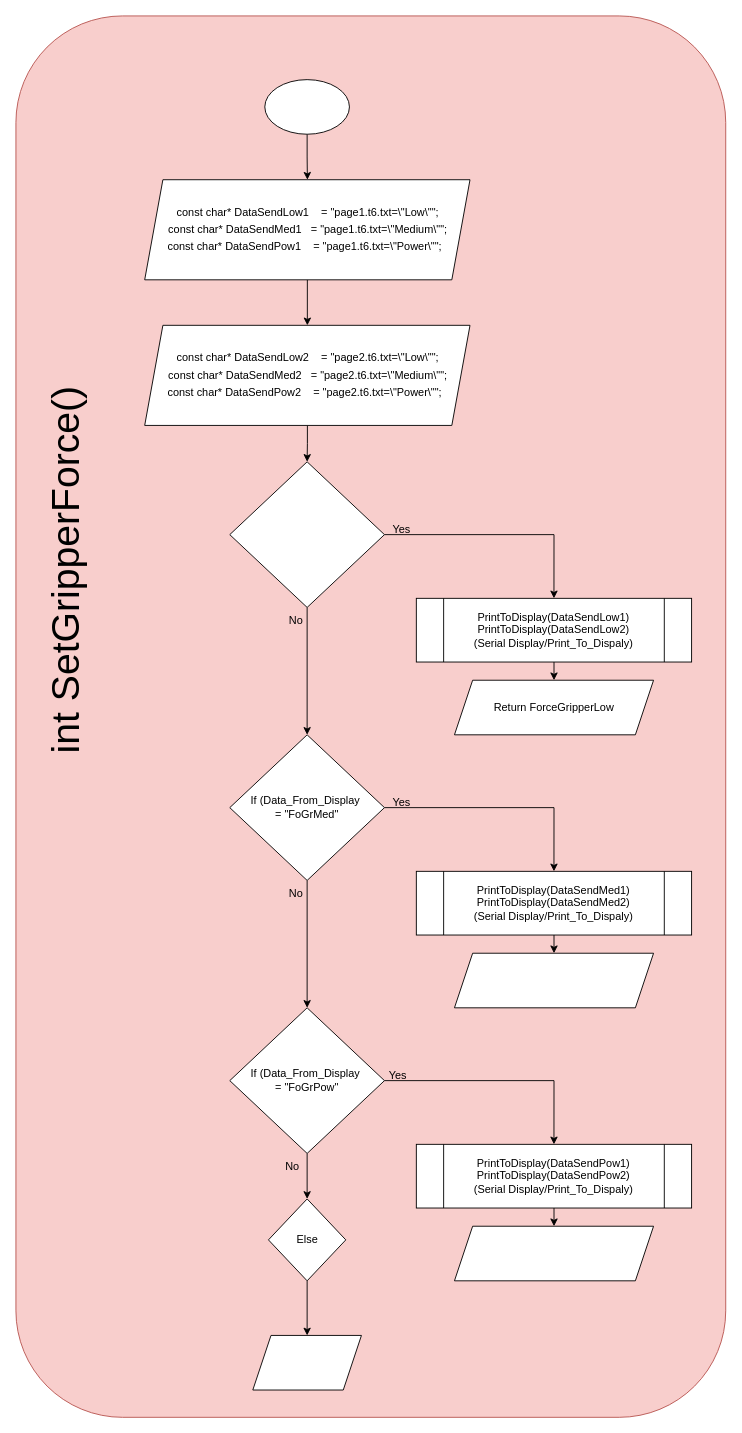
The diagram is 742 pixels wide and 1433 high, and some of its shapes have lost their labels. The shapes that lost their labels are listed below. From the top down, each one's centre as x and y in pixels, then its label:
pixel 306 106: Start
pixel 306 534: If (Data_From_Display = "FoGrLow"
pixel 554 980: Return ForceGripperMedium
pixel 554 1253: Return ForceGripperPower
pixel 306 1362: Return 0
